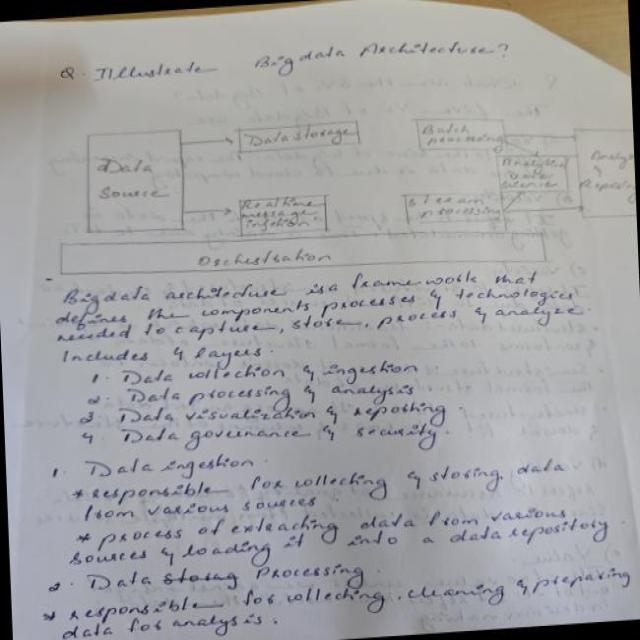Figure Detection - v3 Dataset Version2: (43, 84, 638, 301)
